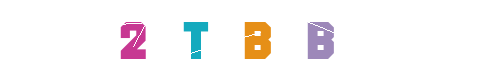2: (156, 0, 236, 80)
B: (205, 0, 285, 80), (217, 0, 297, 80)
T: (194, 0, 274, 80)
